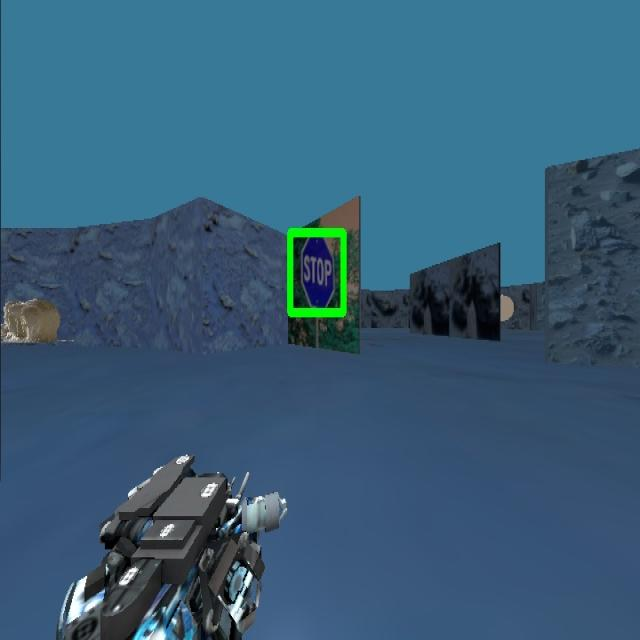Circle: (498, 286, 518, 338)
Ice: (3, 263, 82, 358)
Stop_Sign: (286, 225, 348, 319)
